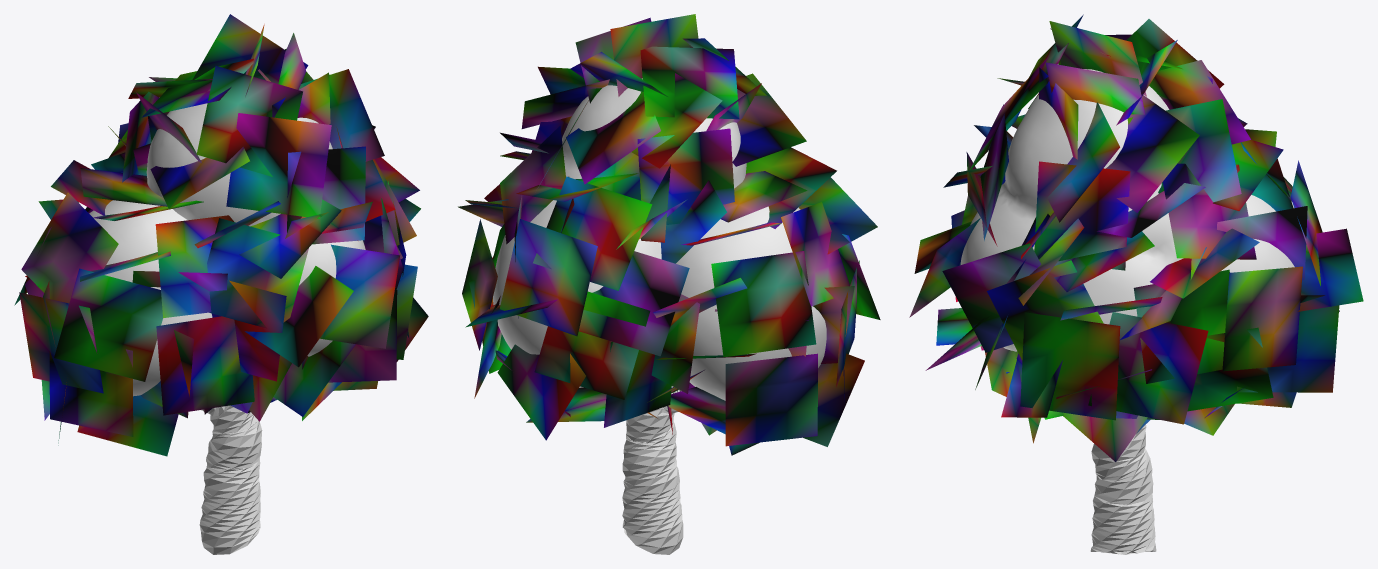
File: testTREE2.fbx
The picture shows the model from 3 angles, left to right: view 1: azimuth 30°, elevation 25°; view 2: azimuth 150°, elevation 25°; view 3: azimuth 270°, elevation 25°; orthographic projection. The views are drawn at different scales.
Visible parts, largest first — view 1: TreeLeaves, TreeLeavesBase, TreeBarks; view 2: TreeLeaves, TreeLeavesBase, TreeBarks; view 3: TreeLeaves, TreeLeavesBase, TreeBarks.
Boxes of the visible parts, x1=… form: TreeLeaves: x1=14, y1=14, x2=428, y2=456; TreeLeavesBase: x1=89, y1=103, x2=365, y2=396; TreeBarks: x1=199, y1=405, x2=262, y2=554; TreeLeaves: x1=458, y1=14, x2=880, y2=455; TreeLeavesBase: x1=493, y1=78, x2=826, y2=400; TreeBarks: x1=622, y1=386, x2=683, y2=554; TreeLeaves: x1=909, y1=14, x2=1363, y2=461; TreeLeavesBase: x1=960, y1=69, x2=1294, y2=351; TreeBarks: x1=1090, y1=424, x2=1156, y2=554.
Bounding box in the file's own units: 916 × 1192 × 907.
